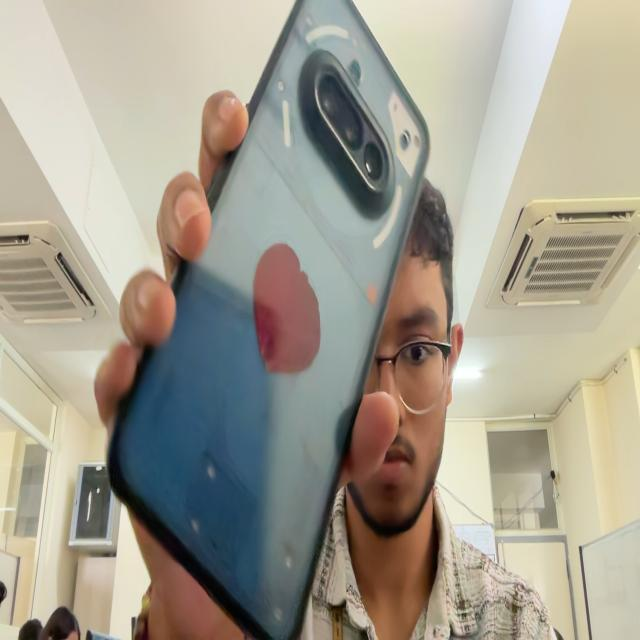Useful: (108, 0, 429, 639)
